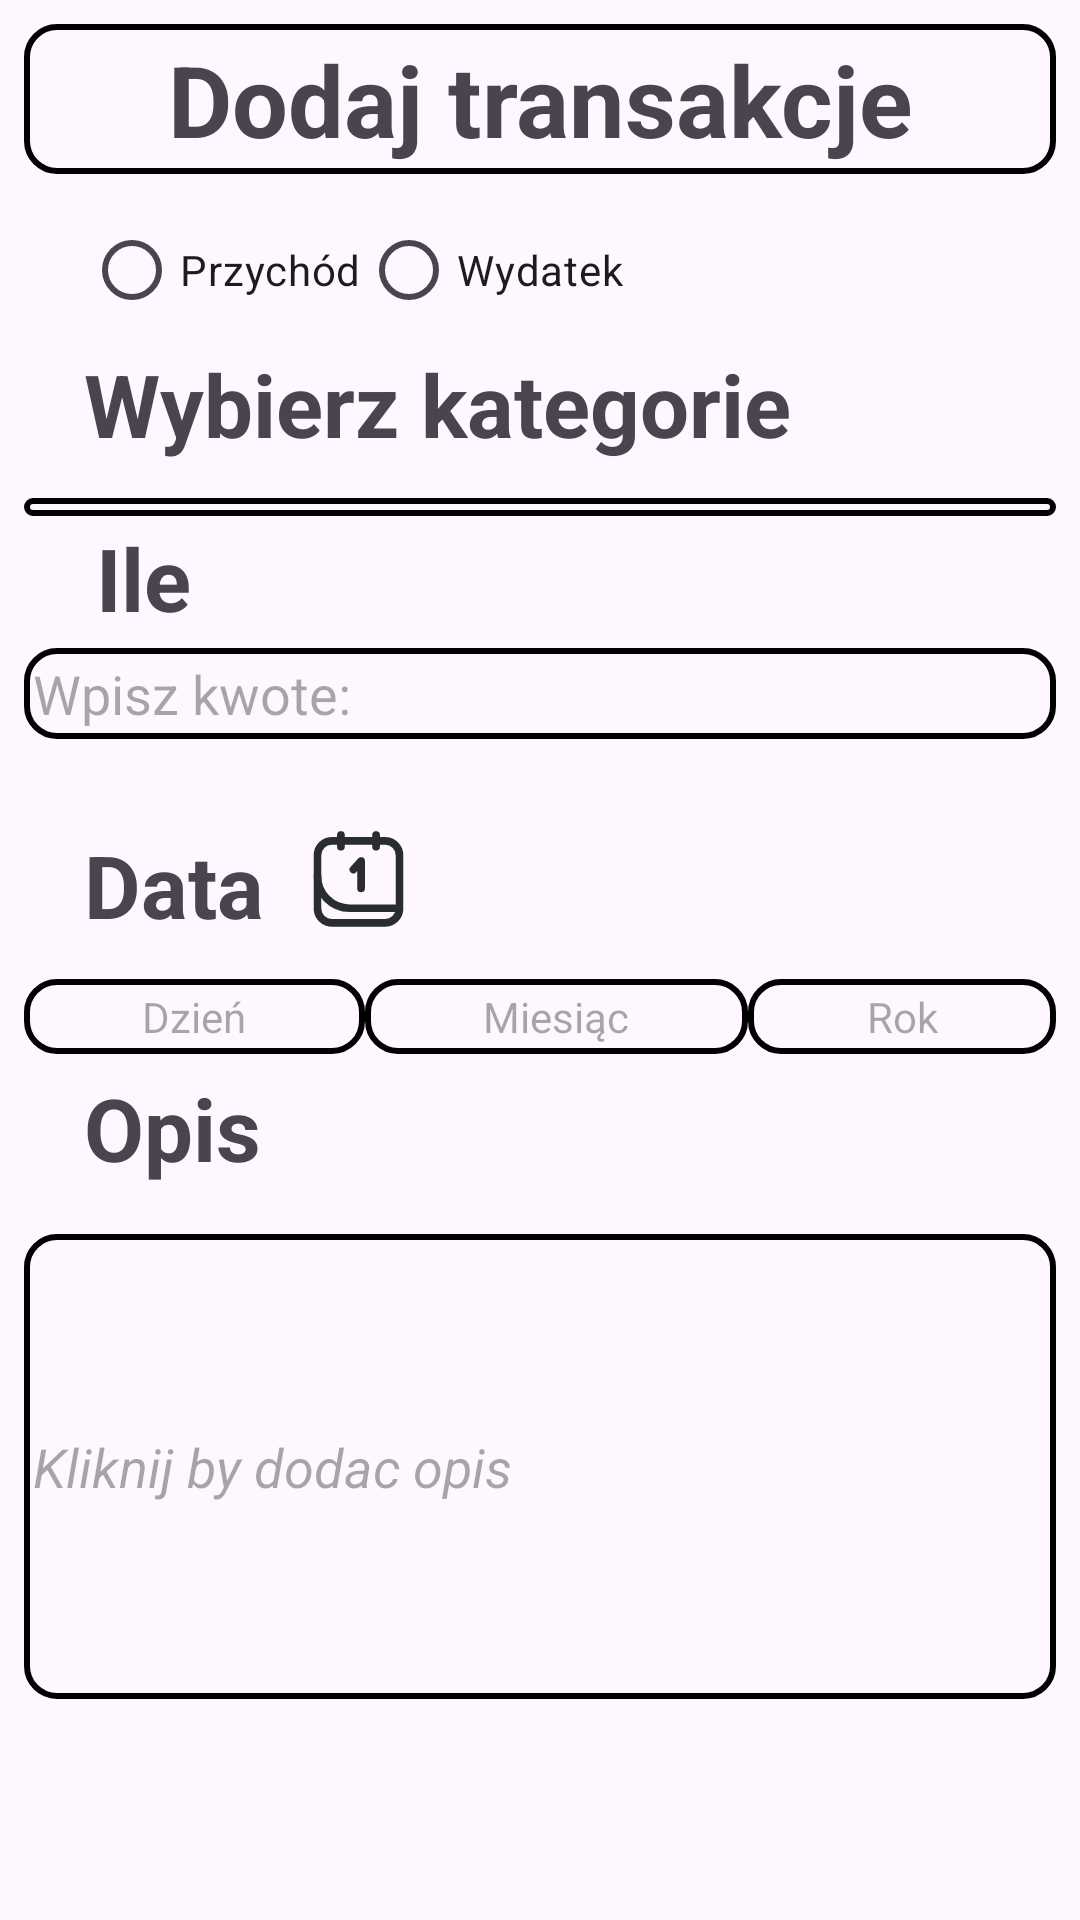

Named icons in this screenshot (1080*1920) and their centers, [x,y]:
calender: [358,879]
